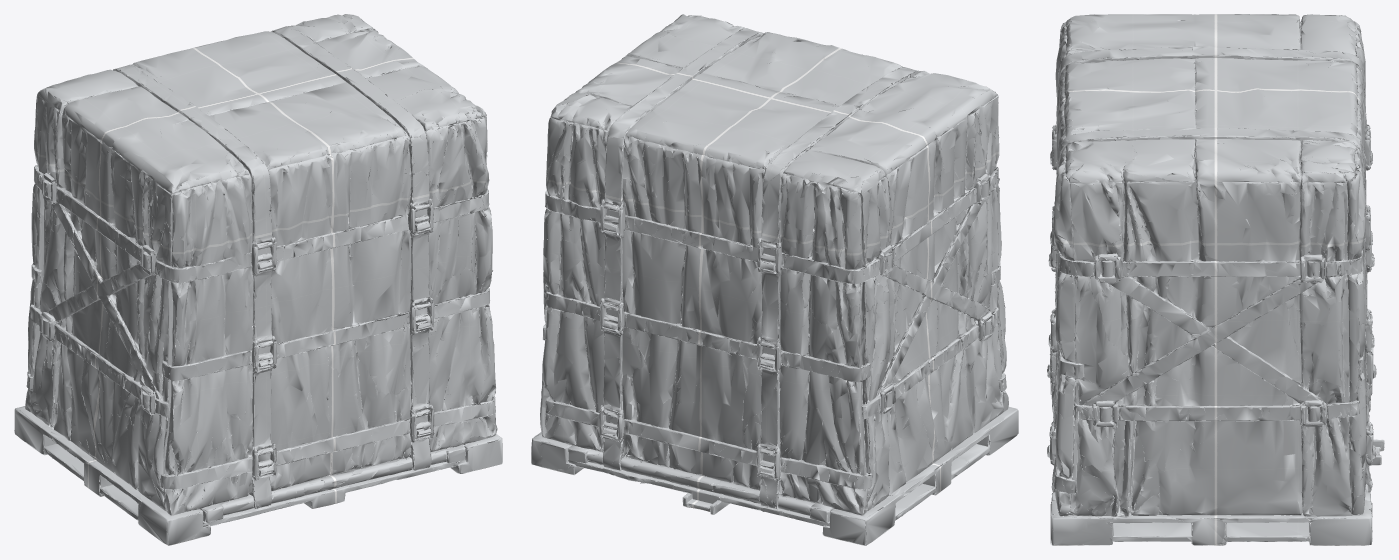
The model's file is blue.glb.
The picture shows the model from 3 angles, left to right: view 1: azimuth 30°, elevation 25°; view 2: azimuth 150°, elevation 25°; view 3: azimuth 270°, elevation 25°; orthographic projection. The views are drawn at different scales.
Parts seen in each view (by area): view 1: blue_mesh; view 2: blue_mesh; view 3: blue_mesh.
Part boxes in pixels (x1,y1,x2,y2): blue_mesh: (14,14,502,545); blue_mesh: (531,14,1018,545); blue_mesh: (1047,14,1384,545).
Size of the model in its own units: 1.25 by 1.25 by 1.02.
1 material, 1 textured.
